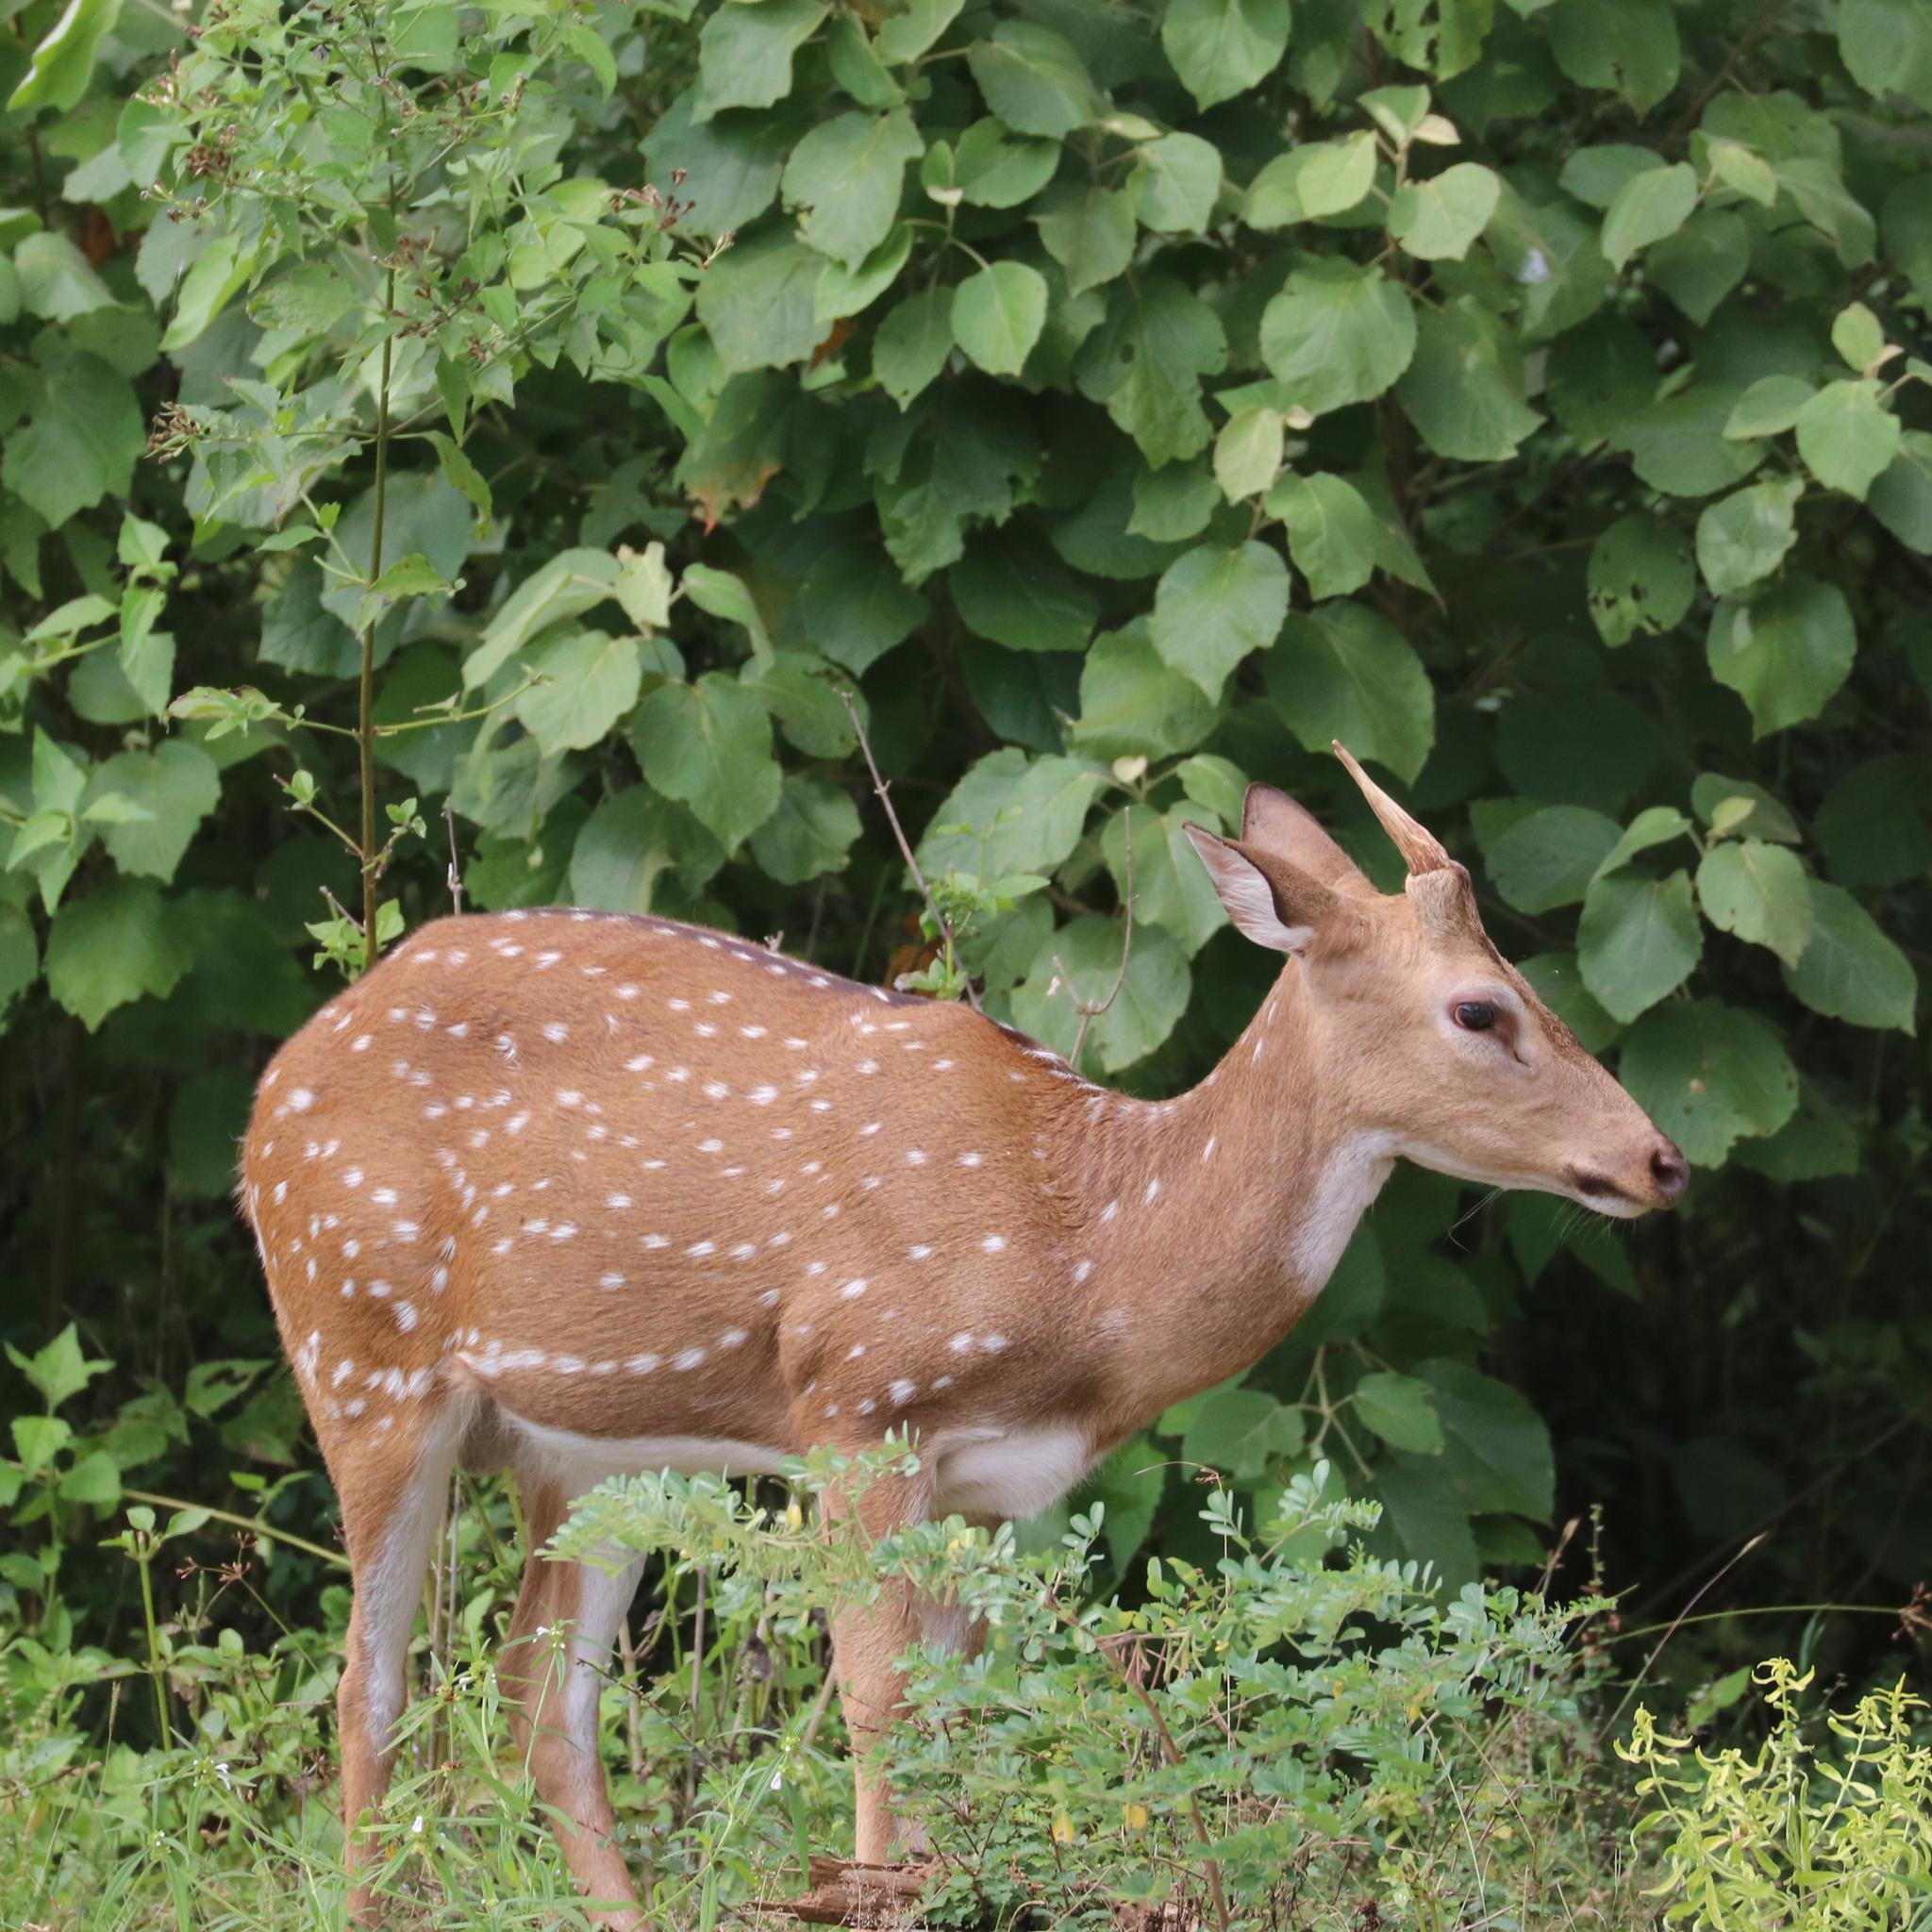Deer: (241, 747, 1686, 1930)
